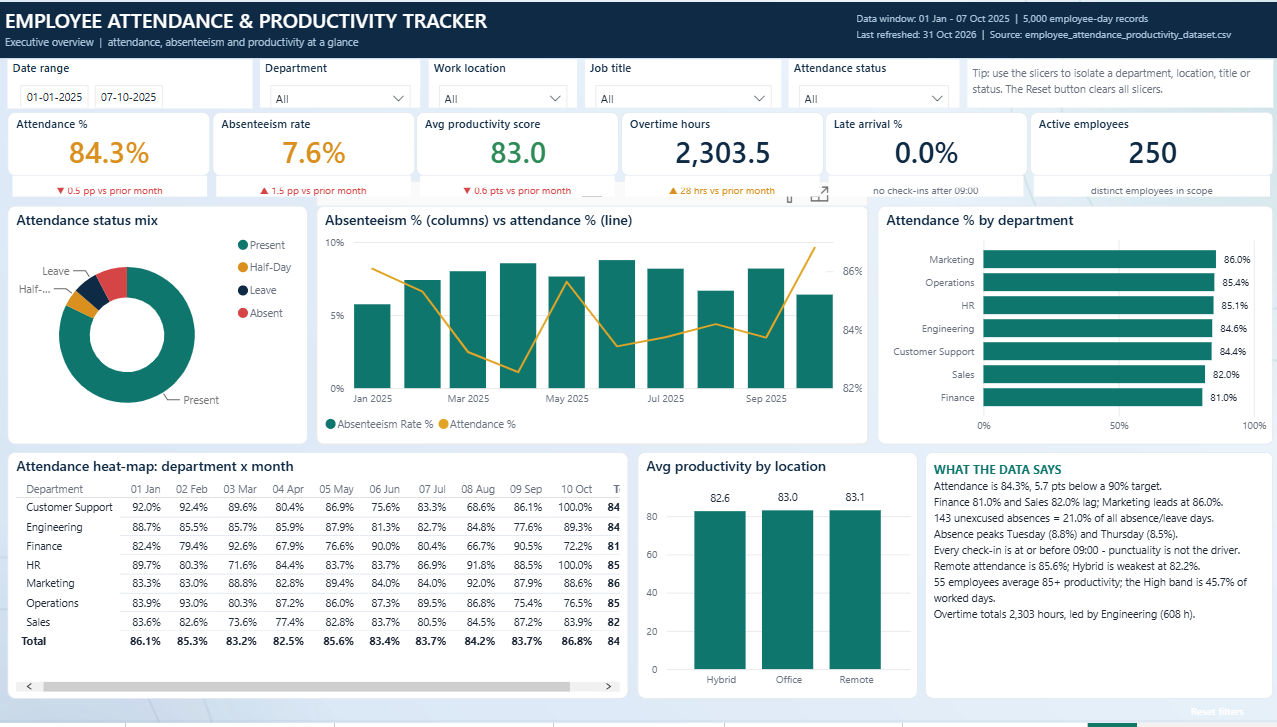

Layout of this report page (visuals, bound fields, positions):
{"tool":"powerbi","page":{"name":"1. Executive Overview","canvas":[1280,720],"ordinal":0},"visuals":[{"type":"slicer","title":"Date range","fields":{"Values":["Date.Date"]},"box":[8,58,244,48],"z":0},{"type":"slicer","title":"Department","fields":{"Values":["Employee.Department"]},"box":[260,58,160,48],"z":0},{"type":"slicer","title":"Work location","fields":{"Values":["Employee.Work_Location"]},"box":[428,58,148,48],"z":0},{"type":"slicer","title":"Job title","fields":{"Values":["Employee.Job_Title"]},"box":[584,58,196,48],"z":0},{"type":"slicer","title":"Attendance status","fields":{"Values":["Attendance.Attendance_Status"]},"box":[788,58,170,48],"z":0},{"type":"textbox","box":[966,58,306,48],"z":0},{"type":"card","title":"Attendance %","fields":{"Values":["_Measures.Attendance %"]},"box":[8,110,202,64],"z":0},{"type":"card","title":"Absenteeism rate","fields":{"Values":["_Measures.Absenteeism Rate %"]},"box":[212,110,202,64],"z":0},{"type":"card","title":"Avg productivity score","fields":{"Values":["_Measures.Avg Productivity Score"]},"box":[416,110,202,64],"z":0},{"type":"card","title":"Overtime hours","fields":{"Values":["_Measures.Total Overtime Hours"]},"box":[620,110,202,64],"z":0},{"type":"card","title":"Late arrival %","fields":{"Values":["_Measures.Late Arrival %"]},"box":[824,110,202,64],"z":0},{"type":"card","title":"Active employees","fields":{"Values":["_Measures.Active Employees"]},"box":[1028,110,244,64],"z":0},{"type":"donutChart","title":"Attendance status mix","fields":{"Y":["_Measures.Present Days","_Measures.Half Days","_Measures.Leave Days","_Measures.Absent Days"]},"box":[8,204,300,238],"z":0},{"type":"lineClusteredColumnComboChart","title":"Absenteeism % (columns) vs attendance % (line)","fields":{"Category":["Date.'Month Start'"],"Y":["_Measures.Absenteeism Rate %"],"Y2":["_Measures.Attendance %"]},"box":[316,204,552,238],"z":0},{"type":"clusteredBarChart","title":"Attendance % by department","fields":{"Category":["Employee.Department"],"Y":["_Measures.Attendance %"]},"box":[876,204,396,238],"z":0},{"type":"matrix","title":"Attendance heat-map: department x month","fields":{"Columns":["Date.'Month Name'"],"Rows":["Employee.Department"],"Values":["_Measures.Attendance %"]},"box":[8,450,620,246],"z":0},{"type":"clusteredColumnChart","title":"Avg productivity by location","fields":{"Category":["Employee.Work_Location"],"Y":["_Measures.Avg Productivity Score"]},"box":[636,450,280,246],"z":0},{"type":"textbox","box":[924,450,348,246],"z":0},{"type":"card","fields":{"Values":["_Measures.Attendance MoM Text"]},"box":[12,174,194,21],"z":2},{"type":"card","fields":{"Values":["_Measures.Absenteeism MoM Text"]},"box":[216,174,194,21],"z":2},{"type":"card","fields":{"Values":["_Measures.Productivity MoM Text"]},"box":[420,174,194,21],"z":2},{"type":"card","fields":{"Values":["_Measures.Overtime MoM Text"]},"box":[624,174,194,21],"z":2},{"type":"card","fields":{"Values":["_Measures.Late Arrival Label"]},"box":[828,174,194,21],"z":2},{"type":"card","fields":{"Values":["_Measures.Active Employees Label"]},"box":[1032,174,236,21],"z":2},{"type":"actionButton","box":[8,698,94,20],"z":30},{"type":"actionButton","box":[106,698,94,20],"z":30},{"type":"actionButton","box":[204,698,94,20],"z":30},{"type":"actionButton","box":[302,698,94,20],"z":30},{"type":"actionButton","box":[420,698,94,20],"z":30},{"type":"actionButton","box":[518,698,94,20],"z":30},{"type":"actionButton","box":[616,698,118,20],"z":30},{"type":"actionButton","box":[1160,698,112,20],"z":30},{"type":"textbox","box":[0,0,1280,56],"z":100},{"type":"textbox","box":[850,3,422,50],"z":101},{"type":"textbox","box":[100,100,300,300],"z":102},{"type":"textbox","box":[100,100,300,300],"z":103},{"type":"textbox","box":[100,100,300,300],"z":104}]}

Visuals, with their boxes in screenshot pixels (x1, y1, x2, y2), scaled from the page's 1280x720 canvas onto the 1277x727 screenshot:
"Date range" slicer: {"left": 8, "top": 59, "right": 251, "bottom": 107}
"Department" slicer: {"left": 259, "top": 59, "right": 419, "bottom": 107}
"Work location" slicer: {"left": 427, "top": 59, "right": 575, "bottom": 107}
"Job title" slicer: {"left": 583, "top": 59, "right": 778, "bottom": 107}
"Attendance status" slicer: {"left": 786, "top": 59, "right": 956, "bottom": 107}
textbox: {"left": 964, "top": 59, "right": 1269, "bottom": 107}
"Attendance %" card: {"left": 8, "top": 111, "right": 210, "bottom": 176}
"Absenteeism rate" card: {"left": 212, "top": 111, "right": 413, "bottom": 176}
"Avg productivity score" card: {"left": 415, "top": 111, "right": 617, "bottom": 176}
"Overtime hours" card: {"left": 619, "top": 111, "right": 820, "bottom": 176}
"Late arrival %" card: {"left": 822, "top": 111, "right": 1024, "bottom": 176}
"Active employees" card: {"left": 1026, "top": 111, "right": 1269, "bottom": 176}
"Attendance status mix" donutChart: {"left": 8, "top": 206, "right": 307, "bottom": 446}
"Absenteeism % (columns) vs attendance % (line)" lineClusteredColumnComboChart: {"left": 315, "top": 206, "right": 866, "bottom": 446}
"Attendance % by department" clusteredBarChart: {"left": 874, "top": 206, "right": 1269, "bottom": 446}
"Attendance heat-map: department x month" matrix: {"left": 8, "top": 454, "right": 627, "bottom": 703}
"Avg productivity by location" clusteredColumnChart: {"left": 635, "top": 454, "right": 914, "bottom": 703}
textbox: {"left": 922, "top": 454, "right": 1269, "bottom": 703}
card - _Measures.Attendance MoM Text: {"left": 12, "top": 176, "right": 206, "bottom": 197}
card - _Measures.Absenteeism MoM Text: {"left": 215, "top": 176, "right": 409, "bottom": 197}
card - _Measures.Productivity MoM Text: {"left": 419, "top": 176, "right": 613, "bottom": 197}
card - _Measures.Overtime MoM Text: {"left": 623, "top": 176, "right": 816, "bottom": 197}
card - _Measures.Late Arrival Label: {"left": 826, "top": 176, "right": 1020, "bottom": 197}
card - _Measures.Active Employees Label: {"left": 1030, "top": 176, "right": 1265, "bottom": 197}
actionButton: {"left": 8, "top": 705, "right": 102, "bottom": 725}
actionButton: {"left": 106, "top": 705, "right": 200, "bottom": 725}
actionButton: {"left": 204, "top": 705, "right": 297, "bottom": 725}
actionButton: {"left": 301, "top": 705, "right": 395, "bottom": 725}
actionButton: {"left": 419, "top": 705, "right": 513, "bottom": 725}
actionButton: {"left": 517, "top": 705, "right": 611, "bottom": 725}
actionButton: {"left": 615, "top": 705, "right": 732, "bottom": 725}
actionButton: {"left": 1157, "top": 705, "right": 1269, "bottom": 725}
textbox: {"left": 0, "top": 0, "right": 1276, "bottom": 57}
textbox: {"left": 848, "top": 3, "right": 1269, "bottom": 54}
textbox: {"left": 100, "top": 101, "right": 399, "bottom": 404}
textbox: {"left": 100, "top": 101, "right": 399, "bottom": 404}
textbox: {"left": 100, "top": 101, "right": 399, "bottom": 404}
